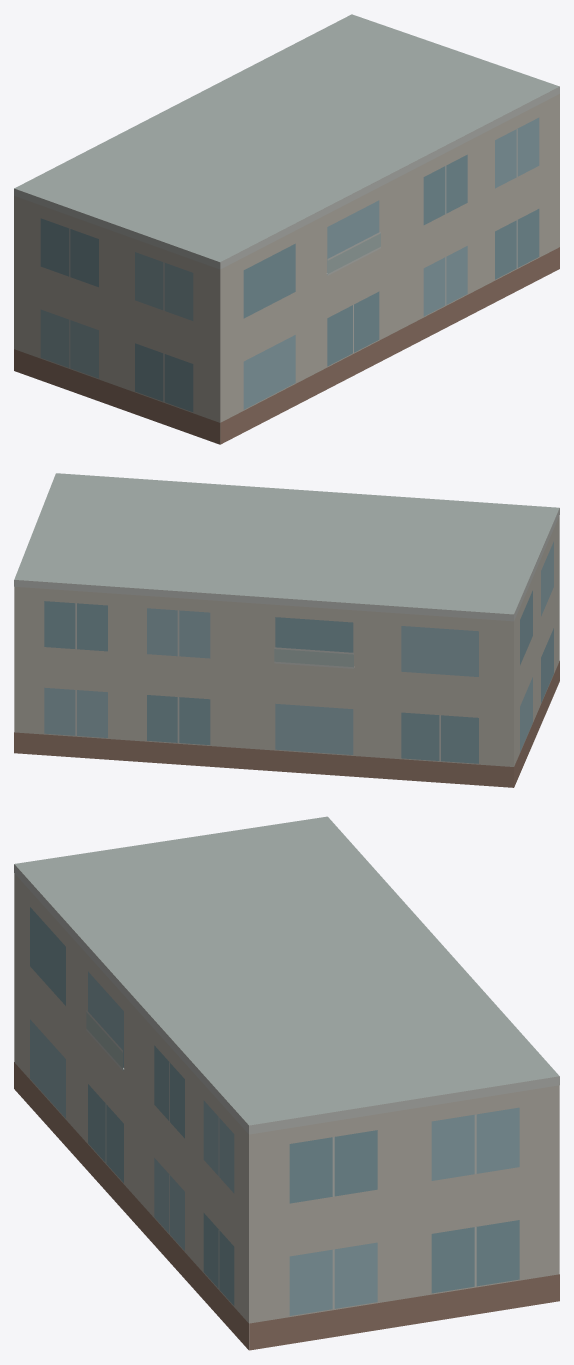
File: survey-upis-32964493.glb
3 views of the same model, one above another, from view 1: azimuth 30°, elevation 25°; view 2: azimuth 150°, elevation 25°; view 3: azimuth 270°, elevation 25° (orthographic). The views are drawn at different scales.
Parts seen in each view (by area): view 1: survey-upis-32964493.tmp; view 2: survey-upis-32964493.tmp; view 3: survey-upis-32964493.tmp.
Part boxes in pixels (x1=…): survey-upis-32964493.tmp: x1=14, y1=14, x2=559, y2=444; survey-upis-32964493.tmp: x1=14, y1=473, x2=559, y2=787; survey-upis-32964493.tmp: x1=14, y1=816, x2=559, y2=1350.
Size of the model in its own units: 17.99 by 6.1 by 13.42.
